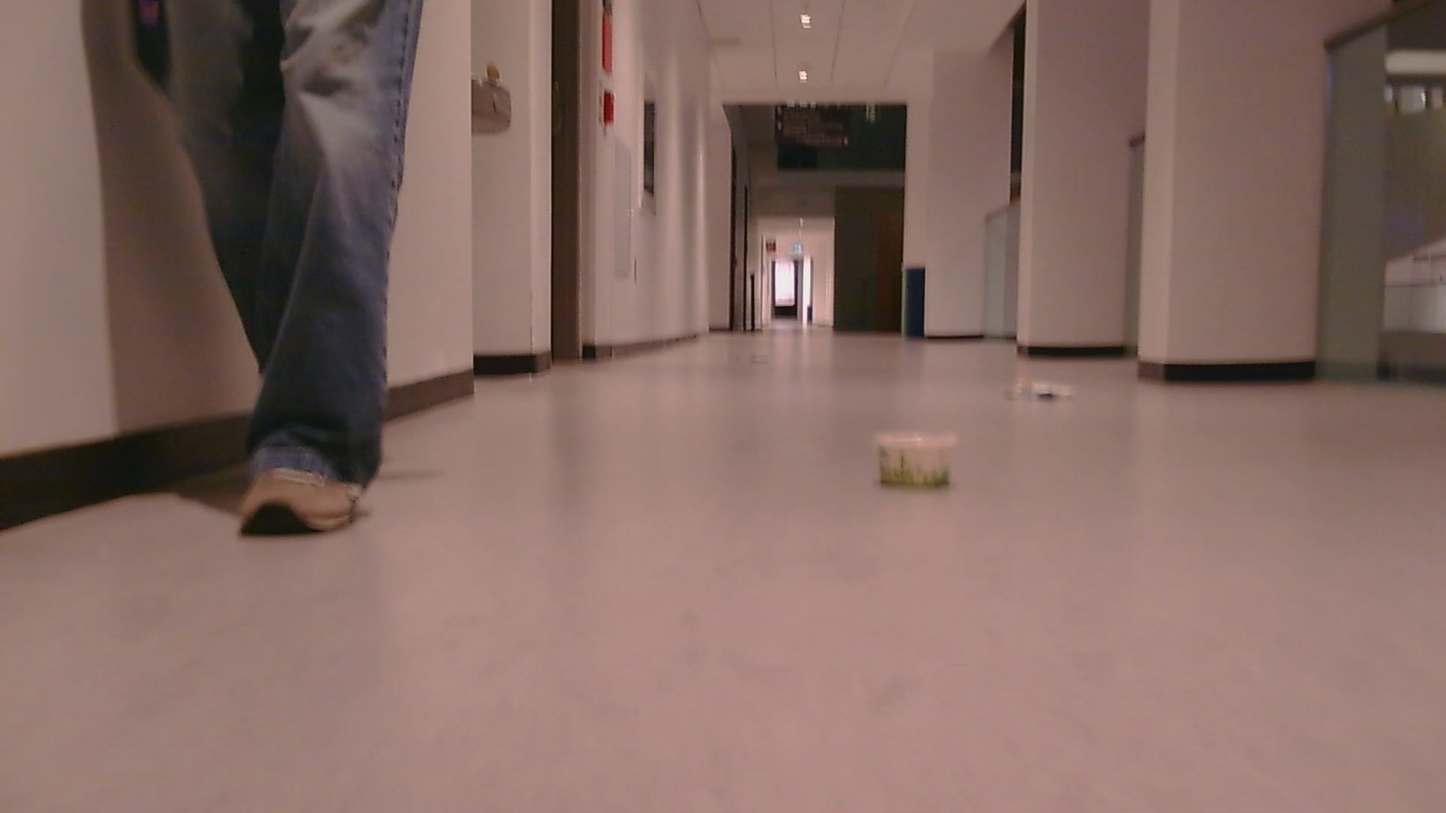carton: (871, 417, 965, 495), (1003, 364, 1087, 410)
